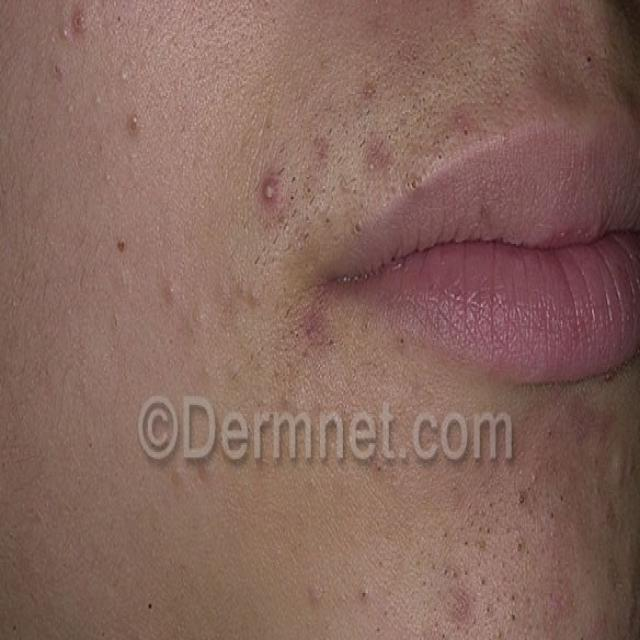Acne: (467, 398, 640, 537), (343, 77, 501, 193), (412, 553, 585, 640), (289, 294, 355, 387), (252, 156, 305, 261), (54, 7, 113, 82), (151, 256, 186, 340)
